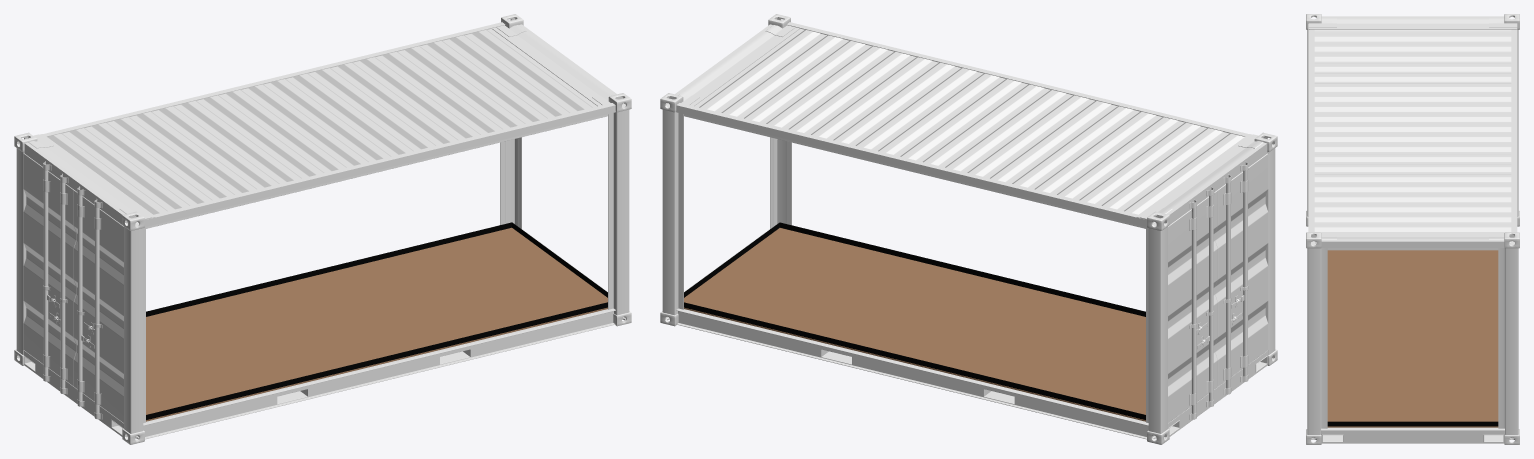
The model's file is container-exterior.glb.
The picture shows the model from 3 angles, left to right: view 1: azimuth 30°, elevation 25°; view 2: azimuth 150°, elevation 25°; view 3: azimuth 270°, elevation 25°; orthographic projection. The views are drawn at different scales.
Parts seen in each view (by area): view 1: Container_Exterior_Blank_RearTop_01, SM_Interior_Blank_Floor_01, Container_Exterior_Blank_Bottom_01, SM_Blank_DryWall_Left_01, SM_Blank_DryWall_Right_01, SM_L01_PlywoodWall_RearTop_01, SM_Blank_DryWall_Front_01; view 2: Container_Exterior_Blank_RearTop_01, SM_Interior_Blank_Floor_01, Container_Exterior_Blank_Bottom_01, SM_Blank_DryWall_Right_01, SM_Blank_DryWall_Left_01, SM_L01_PlywoodWall_RearTop_01; view 3: Container_Exterior_Blank_RearTop_01, SM_Interior_Blank_Floor_01, SM_Blank_DryWall_Front_01, SM_L01_PlywoodWall_RearTop_01.
Boxes of the visible parts, x1,y1,x2,y2 form: Container_Exterior_Blank_RearTop_01: (14,14,631,444); SM_Interior_Blank_Floor_01: (146,227,607,421); Container_Exterior_Blank_Bottom_01: (143,308,615,439); SM_Blank_DryWall_Left_01: (146,302,607,419); SM_Blank_DryWall_Right_01: (146,222,511,316); SM_L01_PlywoodWall_RearTop_01: (135,114,607,228); SM_Blank_DryWall_Front_01: (512,222,607,297); Container_Exterior_Blank_RearTop_01: (660,14,1277,444); SM_Interior_Blank_Floor_01: (684,228,1145,421); Container_Exterior_Blank_Bottom_01: (676,308,1148,439); SM_Blank_DryWall_Right_01: (684,302,1145,419); SM_Blank_DryWall_Left_01: (780,222,1145,316); SM_L01_PlywoodWall_RearTop_01: (684,114,1156,228); Container_Exterior_Blank_RearTop_01: (1306,14,1519,444); SM_Interior_Blank_Floor_01: (1327,250,1498,427); SM_Blank_DryWall_Front_01: (1327,421,1498,426); SM_L01_PlywoodWall_RearTop_01: (1315,241,1510,250).
Bounding box in the file's own units: 6.11 × 2.6 × 2.44.
